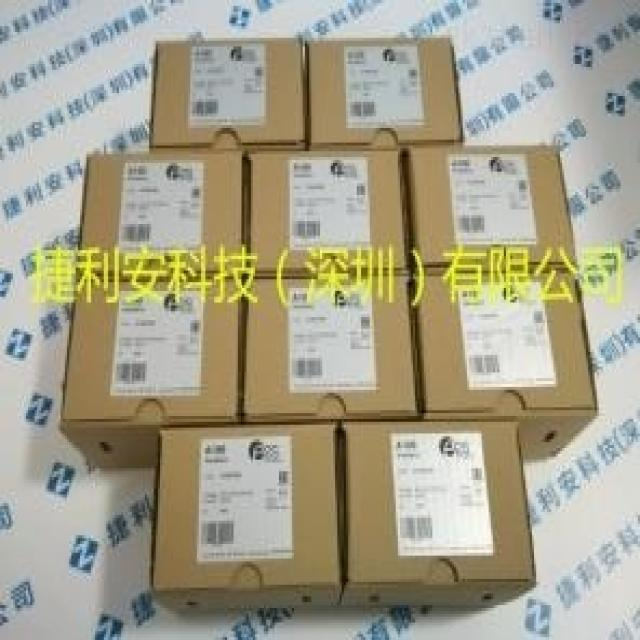box: (340, 422, 534, 611), (153, 425, 344, 614), (60, 272, 240, 470), (415, 271, 596, 462), (244, 273, 419, 418), (75, 148, 245, 274), (245, 145, 409, 272), (407, 146, 577, 267), (151, 37, 307, 148), (309, 35, 463, 143)
